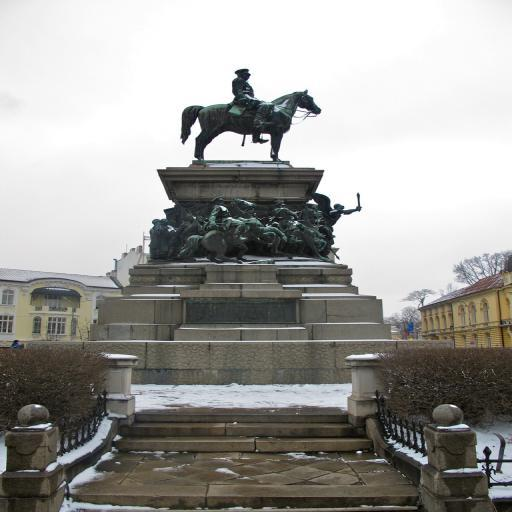Horse: (180, 90, 324, 162)
